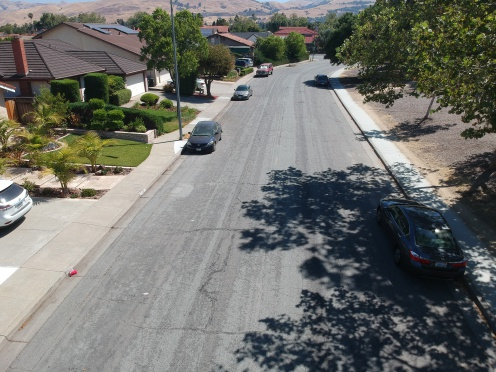plastic bag: (63, 268, 80, 279)
